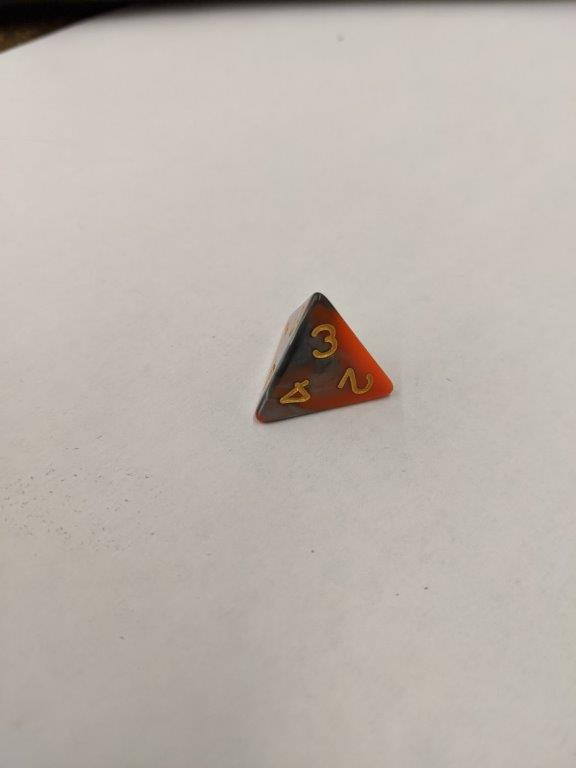d4-3: (249, 284, 398, 426)
